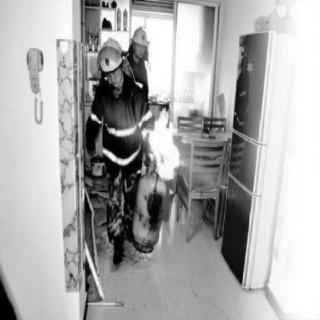Fire: (141, 106, 187, 184)
other: (95, 30, 127, 93)
